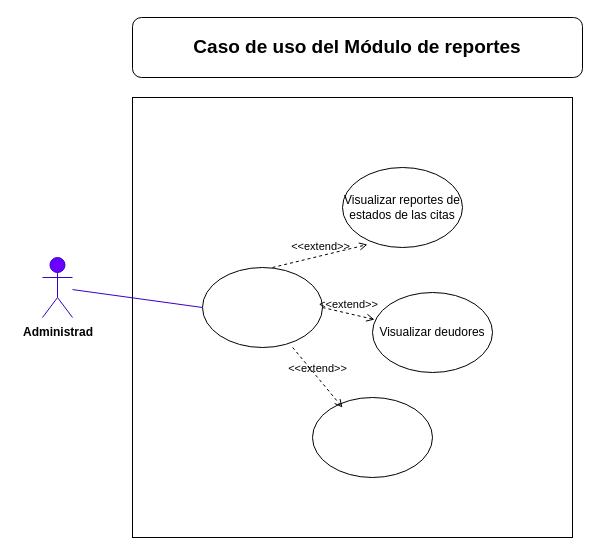
This 600x555 diagram has some shape labels left out. Here are the shapes that lost their labels. From the top down, the centre of each, then its label:
At point 262,307: "Reportes".
At point 372,437: "Visualizar crecimiento de citas".
